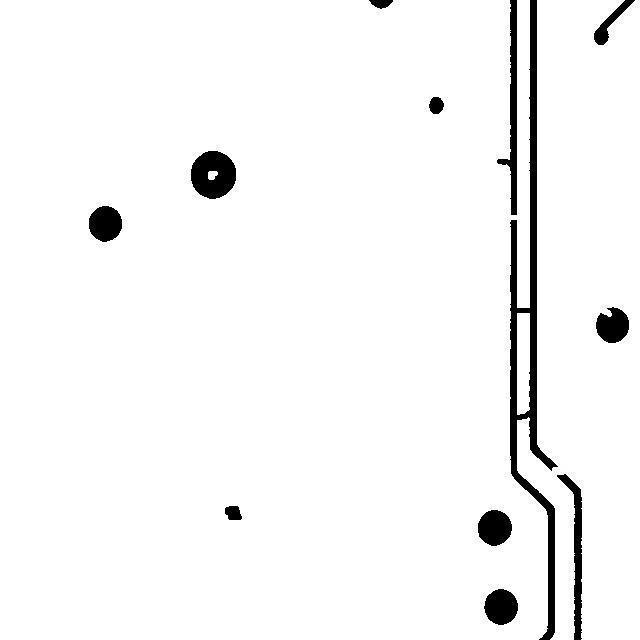copper: (217, 498, 249, 527)
mousebite: (592, 300, 619, 324)
open: (544, 459, 572, 484), (496, 207, 526, 227)
pin-hole: (200, 163, 225, 187)
short: (505, 402, 541, 427), (504, 300, 541, 320)
spur: (489, 151, 521, 174)
